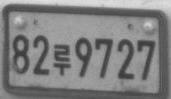2: (116, 37, 136, 79), (32, 34, 50, 75)
7: (136, 39, 156, 80), (94, 37, 113, 77)
8: (11, 33, 30, 74)
9: (74, 36, 93, 77)
루: (52, 43, 71, 76)
